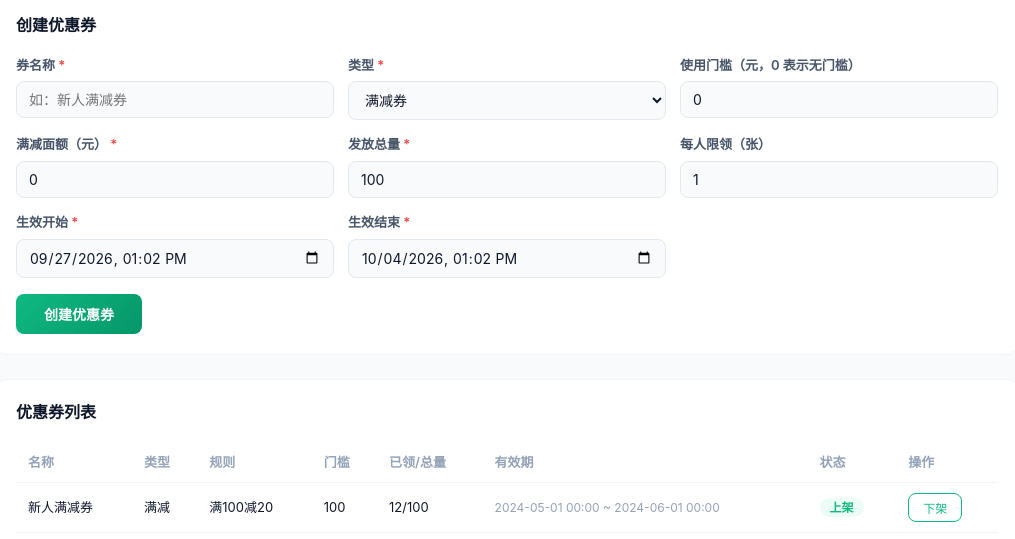
Scenario: admin/Coupons 优惠券管理 › 下架优惠券：ACTIVE → INACTIVE 并刷新列表
The width and height of the screenshot is (1015, 539).
Click the button with class "btn-toggle" at (935, 508), box [908,493,962,522]
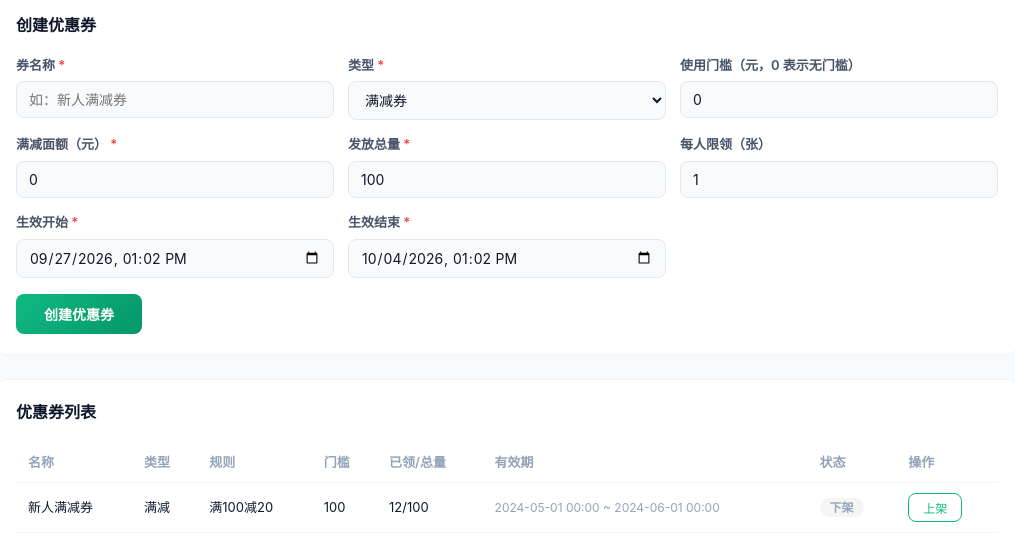
Expected: the text with class "badge" reads "下架", [830,500,854,516]
Expected: the button with class "btn-toggle" reads "上架", [908,493,962,522]
